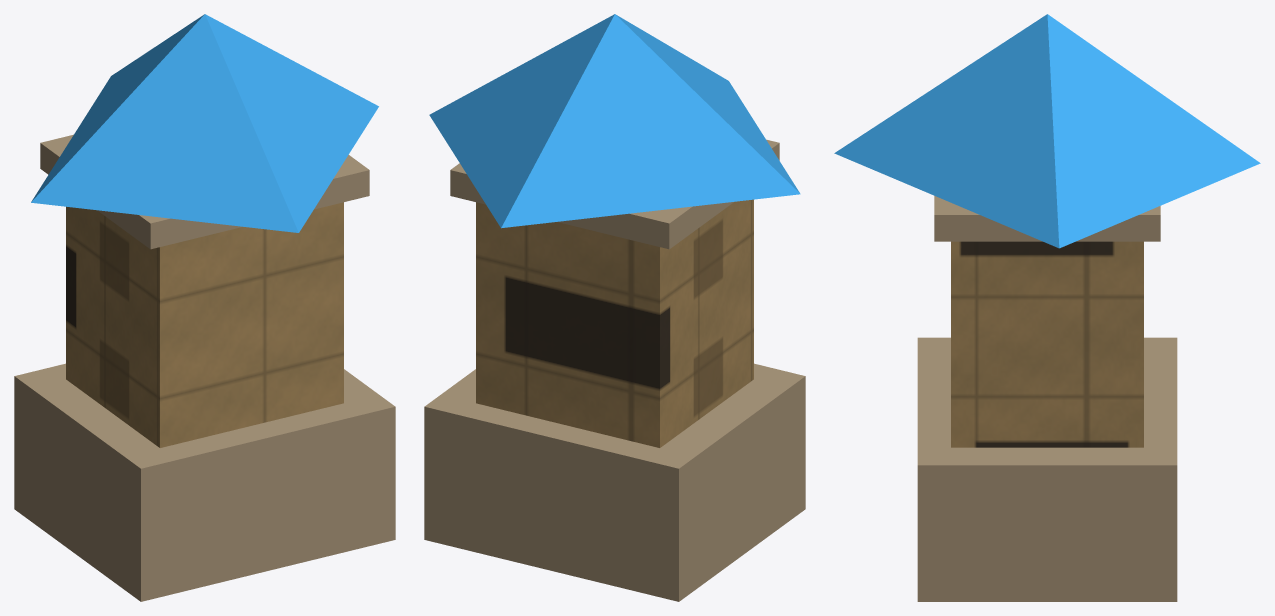
The model's file is city-module-keep-lod1.glb.
3 renders of one model, left to right at view 1: azimuth 30°, elevation 25°; view 2: azimuth 150°, elevation 25°; view 3: azimuth 270°, elevation 25°, orthographic. The views are drawn at different scales.
Visible parts, largest first — view 1: module_keep_base, module_keep_upper, module_keep_blue_roof, module_keep_roof_cap; view 2: module_keep_base, module_keep_upper, module_keep_blue_roof, module_keep_roof_cap; view 3: module_keep_blue_roof, module_keep_base, module_keep_upper, module_keep_roof_cap.
Part boxes in pixels (x1,y1,x2,y2): module_keep_base: (14,363,395,601); module_keep_upper: (66,202,343,447); module_keep_blue_roof: (31,14,378,232); module_keep_roof_cap: (40,134,369,249); module_keep_base: (424,363,805,601); module_keep_upper: (476,199,753,447); module_keep_blue_roof: (429,14,800,228); module_keep_roof_cap: (450,139,779,249); module_keep_blue_roof: (834,14,1260,248); module_keep_base: (917,337,1177,601); module_keep_upper: (951,241,1143,447); module_keep_roof_cap: (934,196,1160,241).
Bounding box in the file's own units: 0.5091 × 0.69 × 0.5091.
Materials: 3 (1 with a texture image).
